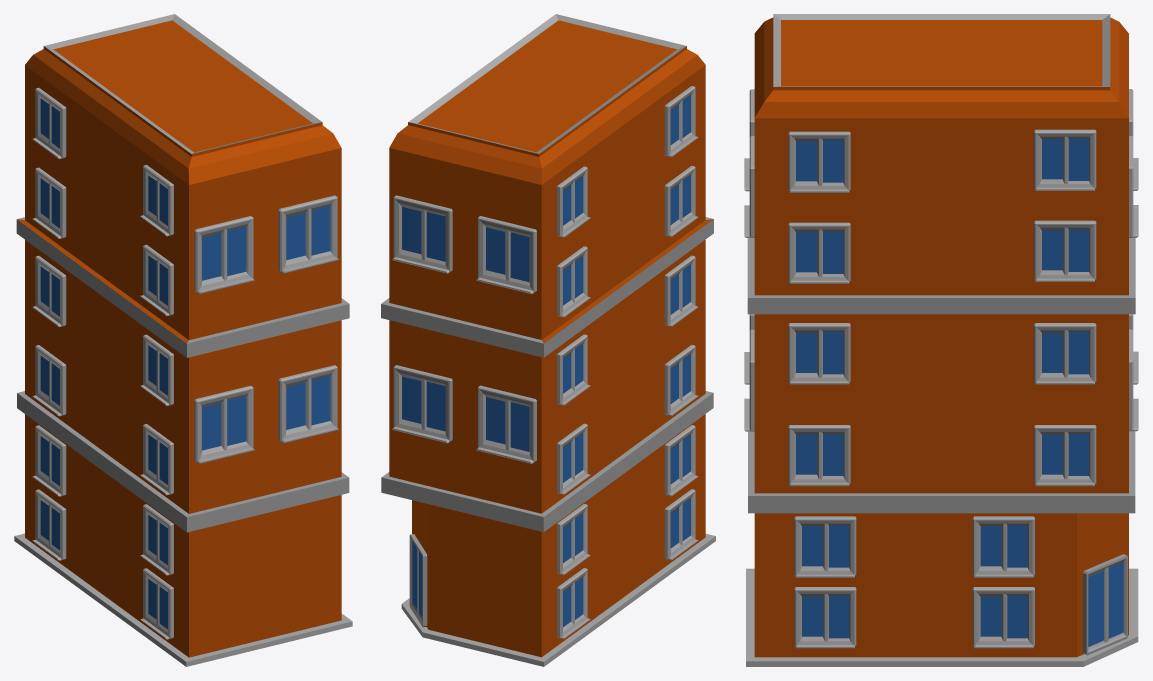
The model's file is ORANGE BUILDING3.001_COLOR.010.glb.
3 renders of one model, left to right at view 1: azimuth 30°, elevation 25°; view 2: azimuth 150°, elevation 25°; view 3: azimuth 270°, elevation 25°, orthographic. The views are drawn at different scales.
Visible parts, largest first — view 1: ORANGE BUILDING3.001_COLOR.010_0; view 2: ORANGE BUILDING3.001_COLOR.010_0; view 3: ORANGE BUILDING3.001_COLOR.010_0.
Boxes of the visible parts, left/top/right/bottom form: ORANGE BUILDING3.001_COLOR.010_0: left=14, top=14, right=352, bottom=666; ORANGE BUILDING3.001_COLOR.010_0: left=381, top=14, right=715, bottom=666; ORANGE BUILDING3.001_COLOR.010_0: left=744, top=14, right=1138, bottom=666.
Bounding box in the file's own units: 1.22 × 3.47 × 2.18.
Materials: 1 (1 with a texture image).
